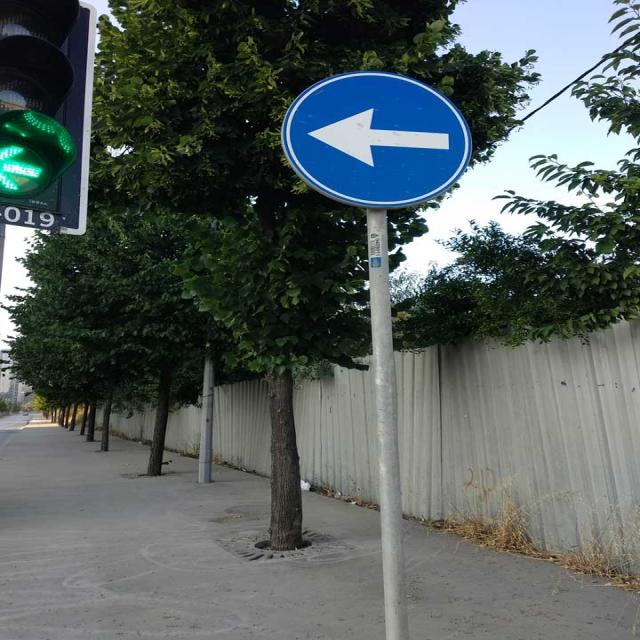sol: (280, 69, 473, 209)
yesil: (1, 1, 96, 234)
